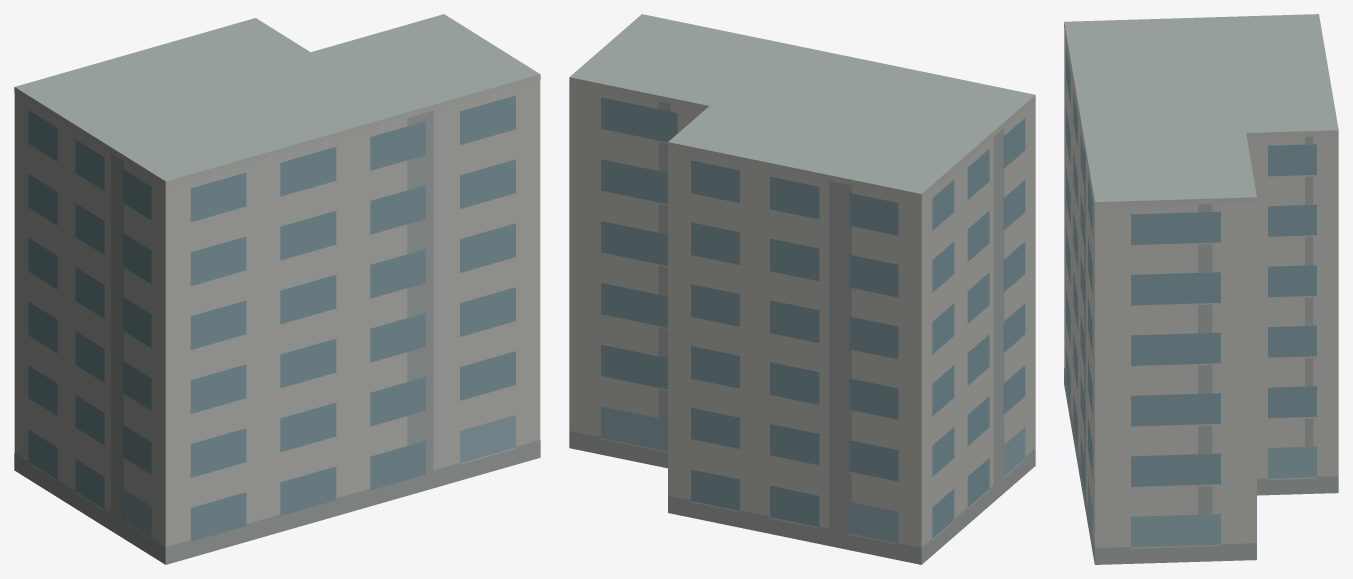
File: survey-upis-32628450.glb
The picture shows the model from 3 angles, left to right: view 1: azimuth 30°, elevation 25°; view 2: azimuth 150°, elevation 25°; view 3: azimuth 270°, elevation 25°; orthographic projection. The views are drawn at different scales.
Visible parts, largest first — view 1: survey-upis-32628450.tmp; view 2: survey-upis-32628450.tmp; view 3: survey-upis-32628450.tmp.
Boxes of the visible parts, x1,y1,x2,y2 form: survey-upis-32628450.tmp: [14, 14, 540, 564]; survey-upis-32628450.tmp: [569, 14, 1035, 564]; survey-upis-32628450.tmp: [1064, 14, 1338, 564].
Bounding box in the file's own units: 17.8 × 16 × 10.98.
